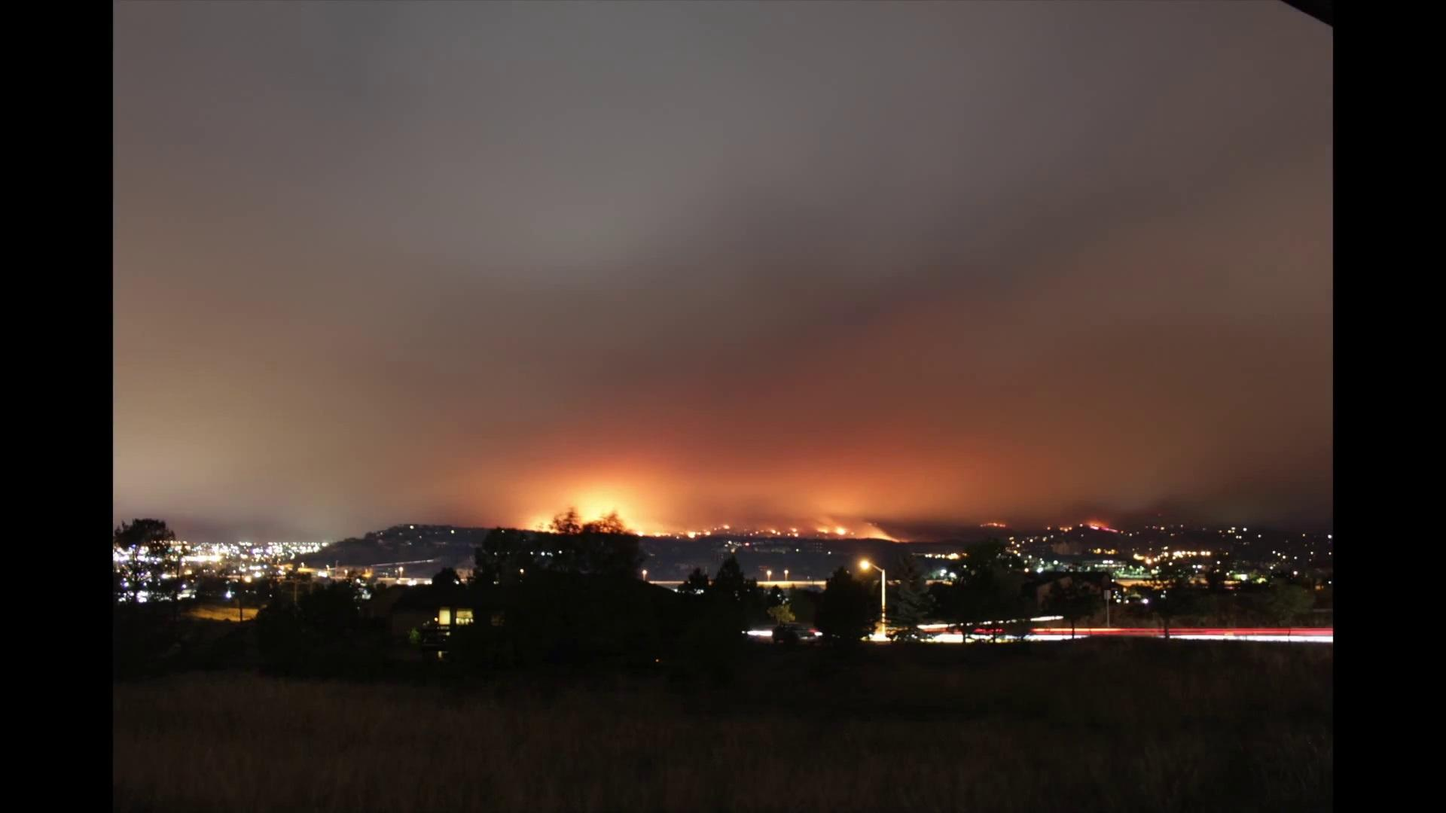fire: (560, 486, 642, 522), (635, 518, 731, 539), (522, 513, 559, 531), (766, 522, 801, 537), (819, 522, 848, 537), (1090, 519, 1118, 532), (979, 519, 1007, 528)
